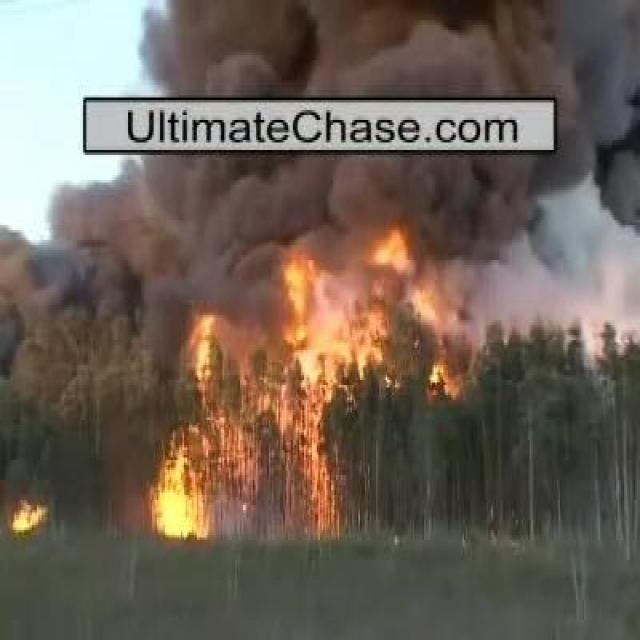Fire: (296, 380, 331, 535), (152, 459, 210, 536)
Smoke: (104, 160, 632, 328)
